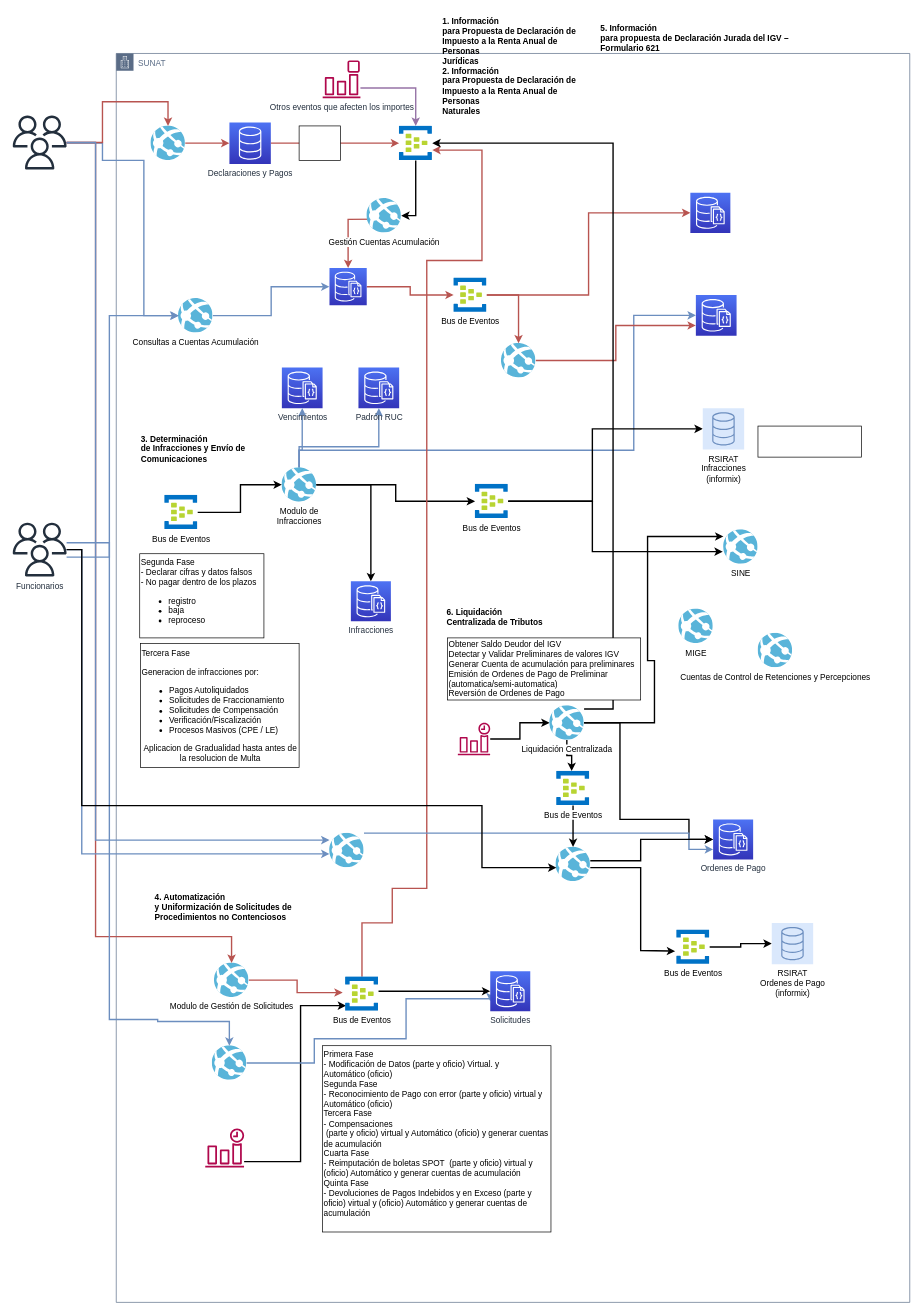
Some shapes in this 922 by 1314 pixel diagram are drawn without their labels. The shapes that lost their labels are listed below. From the top down, each one's centre as x and y in pixels, then its label:
(x=39, y=142): Contribuyentes PN/PJ
(x=167, y=143): Plataforma Unica
(x=319, y=142): Renta PN Renta PJ IGV
(x=415, y=143): Bus de Eventos Cuentas de Acumulación
(x=710, y=212): Cuentas de Control
(x=348, y=286): Cuentas de Acumulación Renta PN Renta PJ IGV Saldos de Creditos
(x=716, y=315): Padrón de Pre-obligados
(x=518, y=360): Determinación de Omisos
(x=809, y=441): Información para emisión de resoluciones de multa
(x=473, y=738): (diario) 8:00 am
(x=346, y=850): Consulta de Ordenes de Pago
(x=572, y=864): Emisión de Ordenes de Pago
(x=229, y=1062): Modulo de Modificación de Datos (Consulta de Solicitudes)
(x=224, y=1147): Generación de Solicitudes Automáticas
